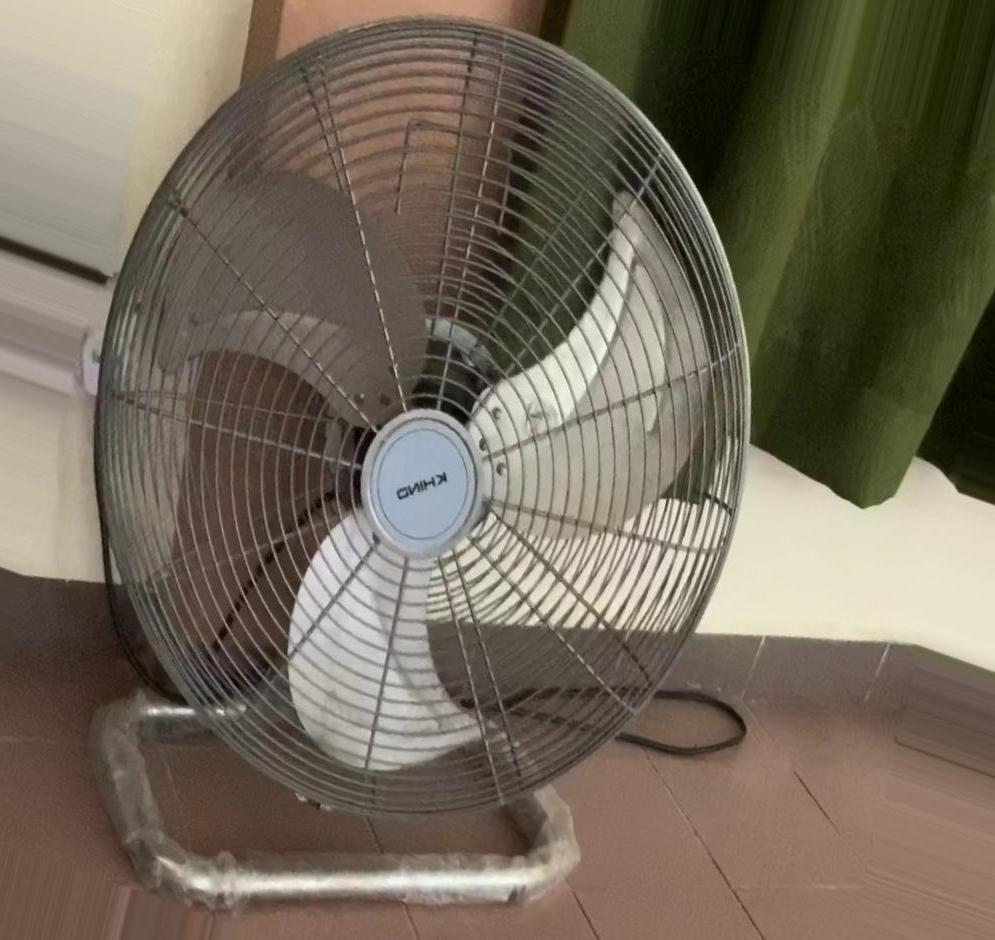fan: (51, 26, 792, 912)
